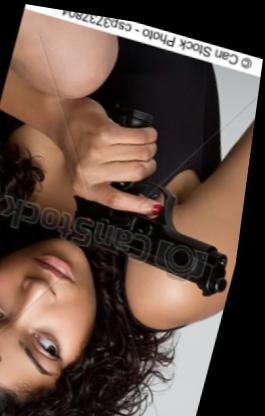pistol: (62, 90, 254, 295)
